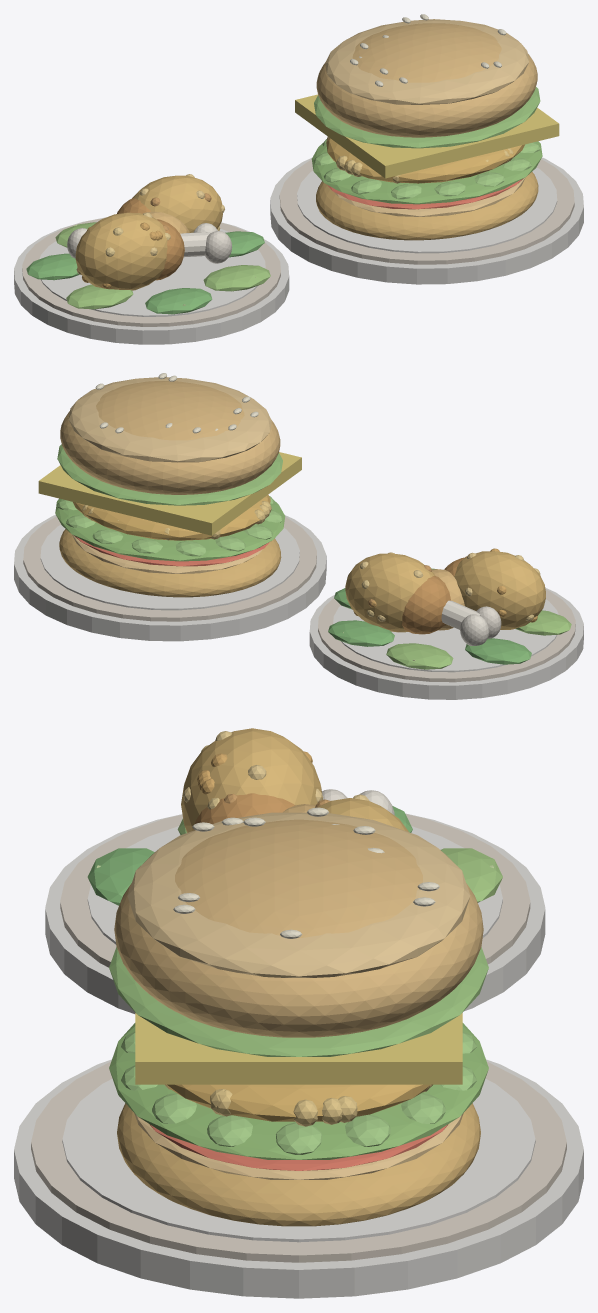
Rendered from combo_ga_burger.glb.
The picture shows the model from 3 angles, top to bottom: view 1: azimuth 30°, elevation 25°; view 2: azimuth 150°, elevation 25°; view 3: azimuth 270°, elevation 25°; orthographic projection. The views are drawn at different scales.
Visible parts, largest first — view 1: combo_node_0118, combo_node_0074, combo_node_0119, combo_node_0000, combo_node_0077, combo_node_0075, combo_node_0017, combo_node_0116, combo_node_0076, combo_node_0002, combo_node_0001, combo_node_0080 (+13 smaller); view 2: combo_node_0118, combo_node_0074, combo_node_0119, combo_node_0000, combo_node_0077, combo_node_0075, combo_node_0116, combo_node_0076, combo_node_0017, combo_node_0045, combo_node_0001, combo_node_0002 (+14 smaller); view 3: combo_node_0118, combo_node_0074, combo_node_0119, combo_node_0075, combo_node_0076, combo_node_0077, combo_node_0116, combo_node_0080, combo_node_0117, combo_node_0001, combo_node_0000, combo_node_0017 (+13 smaller).
Boxes of the visible parts, x1,y1,x2,y2 form: combo_node_0118: (316, 23, 537, 137); combo_node_0074: (270, 157, 583, 284); combo_node_0119: (325, 19, 528, 104); combo_node_0000: (14, 217, 289, 344); combo_node_0077: (316, 172, 538, 240); combo_node_0075: (279, 159, 574, 264); combo_node_0017: (75, 212, 167, 290); combo_node_0116: (295, 94, 559, 178); combo_node_0076: (297, 167, 557, 253); combo_node_0002: (39, 228, 265, 316); combo_node_0001: (22, 217, 280, 326); combo_node_0080: (311, 141, 542, 204); combo_node_0118: (60, 381, 280, 494); combo_node_0074: (14, 514, 326, 641); combo_node_0119: (68, 377, 271, 462); combo_node_0000: (309, 588, 583, 699); combo_node_0077: (59, 529, 281, 597); combo_node_0075: (23, 516, 316, 621); combo_node_0116: (38, 452, 301, 535); combo_node_0076: (40, 525, 299, 610); combo_node_0017: (454, 551, 545, 629); combo_node_0045: (345, 553, 434, 632); combo_node_0001: (318, 589, 575, 682); combo_node_0002: (333, 599, 558, 672); combo_node_0118: (114, 819, 483, 1037); combo_node_0074: (14, 1059, 583, 1298); combo_node_0119: (127, 812, 470, 977); combo_node_0075: (31, 1062, 566, 1262); combo_node_0076: (62, 1078, 535, 1242); combo_node_0077: (117, 1103, 480, 1226); combo_node_0116: (135, 1013, 462, 1084); combo_node_0080: (109, 1023, 488, 1159); combo_node_0117: (109, 947, 488, 1056); combo_node_0001: (60, 814, 530, 967); combo_node_0000: (45, 813, 545, 1013); combo_node_0017: (181, 728, 322, 832).
Size of the model in its own units: 3.04 by 0.9648 by 1.56.
